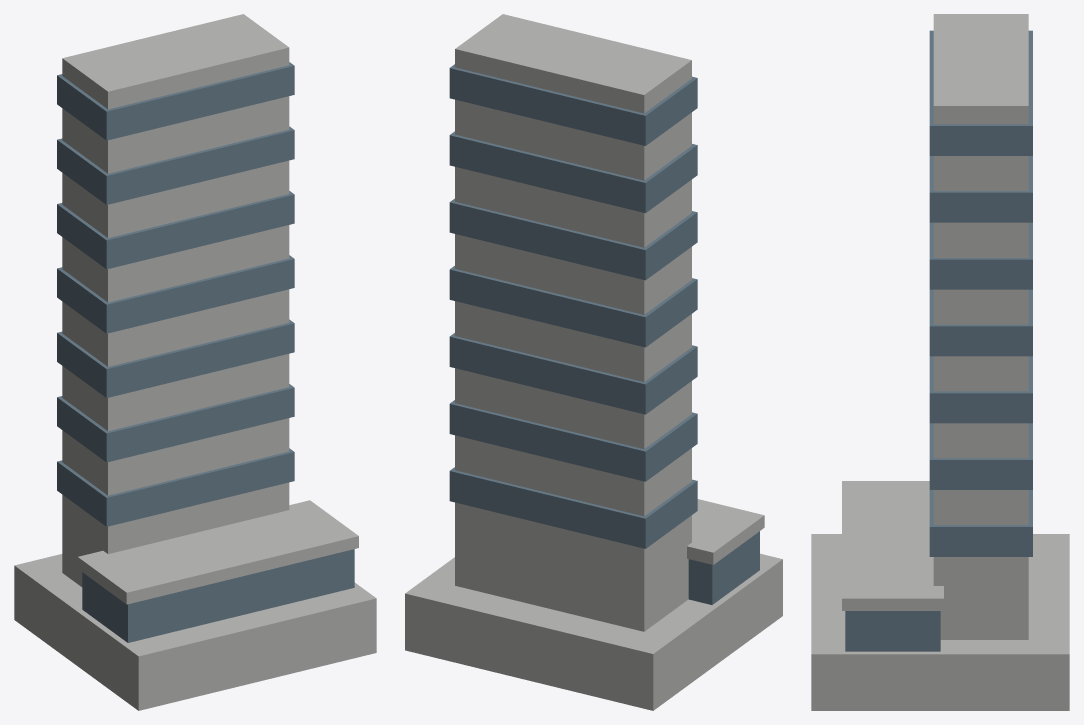
Rendered from house-atomic-0.glb.
3 views of the same model, side by side, from view 1: azimuth 30°, elevation 25°; view 2: azimuth 150°, elevation 25°; view 3: azimuth 270°, elevation 25° (orthographic). The views are drawn at different scales.
Visible parts, largest first — view 1: LOD0; view 2: LOD0; view 3: LOD0.
Part boxes in pixels (box(x1,y1,x2,y2)): LOD0: box(14, 14, 376, 710); LOD0: box(405, 14, 782, 710); LOD0: box(811, 14, 1069, 710).
Size of what is drawn, in the model's own units: 0.21 by 0.48 by 0.19.
